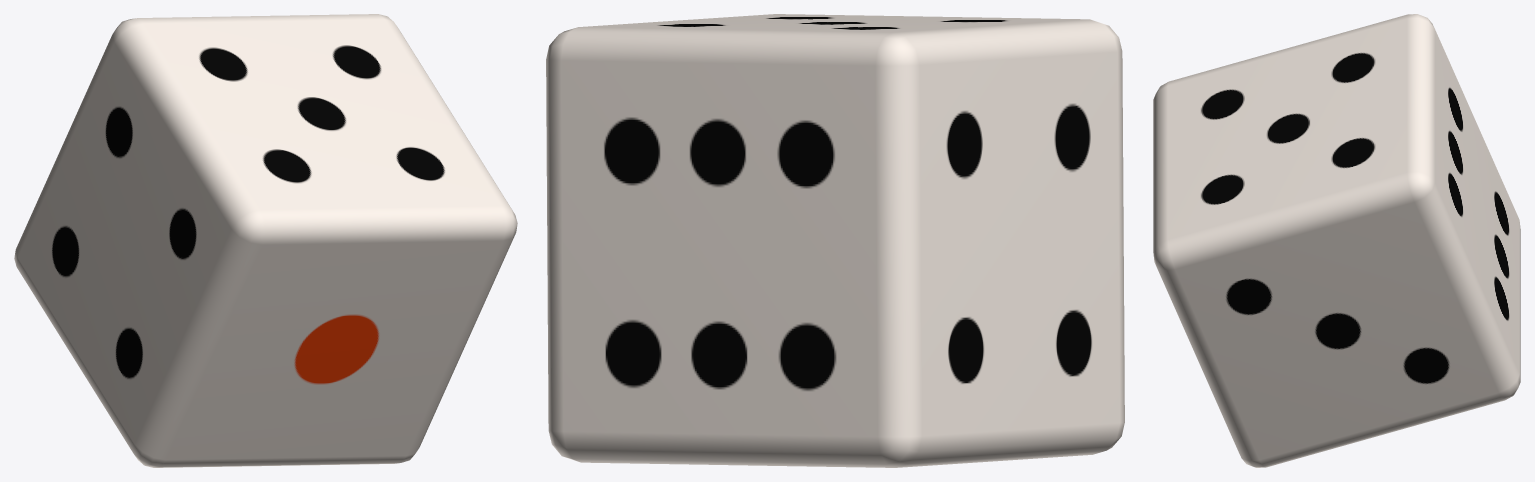
The model's file is dice_4_Anim.fbx.
3 views of the same model, side by side, from view 1: azimuth 30°, elevation 25°; view 2: azimuth 150°, elevation 25°; view 3: azimuth 270°, elevation 25° (orthographic). The views are drawn at different scales.
Visible parts, largest first — view 1: dice4:pCube1; view 2: dice4:pCube1; view 3: dice4:pCube1.
Boxes of the visible parts, x1,y1,x2,y2 form: dice4:pCube1: [14, 14, 517, 467]; dice4:pCube1: [546, 14, 1124, 467]; dice4:pCube1: [1153, 14, 1520, 467].
Bounding box in the file's own units: 0.7377 × 0.8461 × 0.7529.
